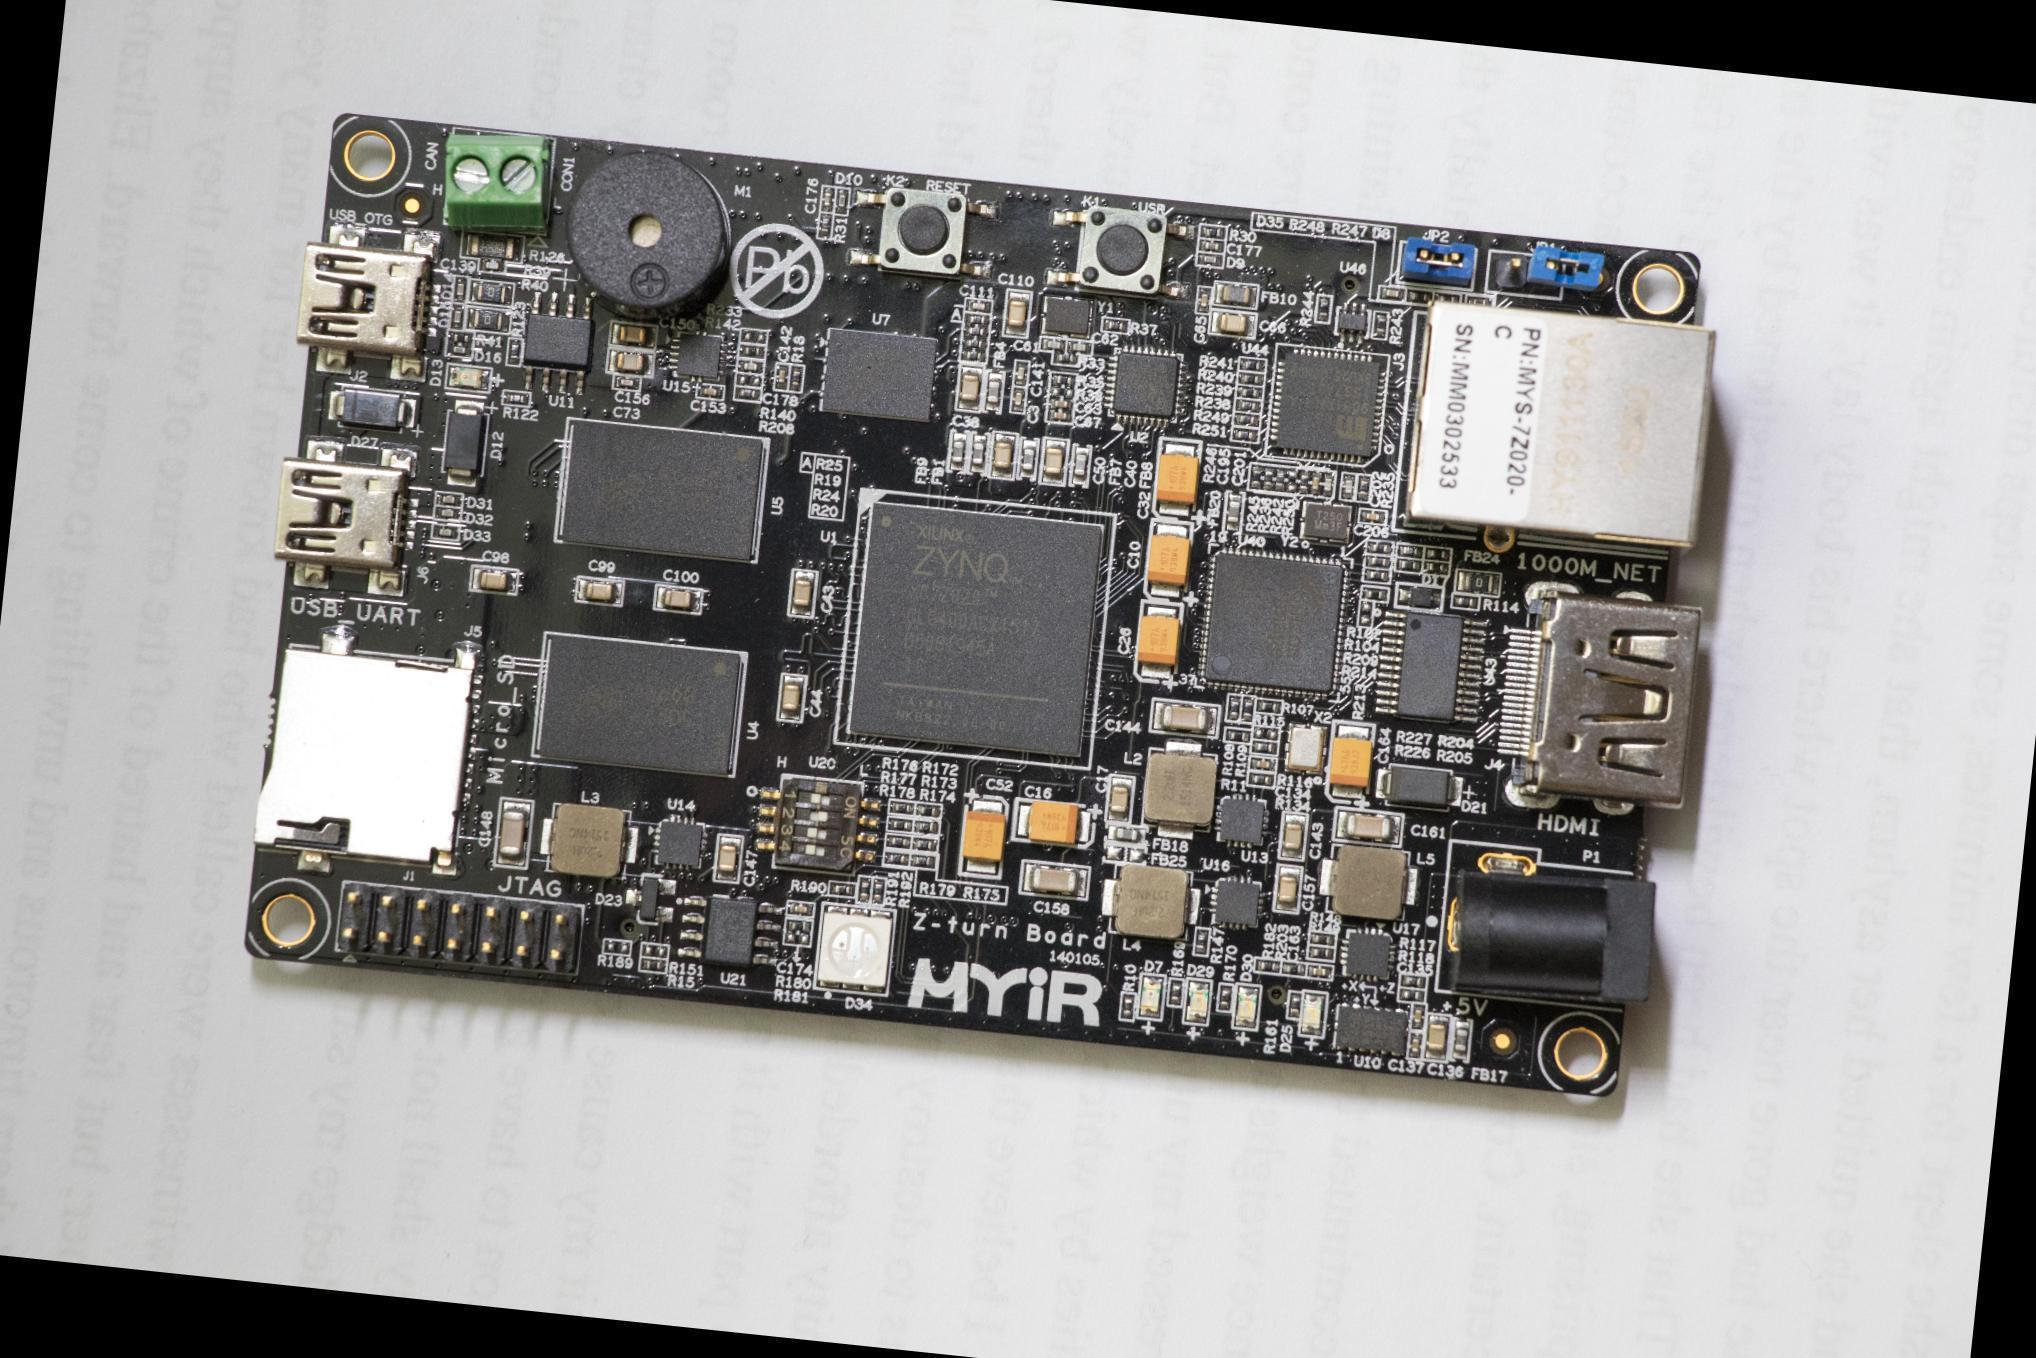Button: (1047, 202, 1196, 299), (849, 184, 998, 277)
Capacitor: (1149, 696, 1222, 739), (493, 796, 534, 870), (1331, 805, 1404, 847), (1018, 860, 1091, 901), (776, 671, 809, 724), (652, 583, 704, 616), (574, 575, 626, 607), (605, 344, 654, 376), (1038, 437, 1069, 486), (786, 567, 818, 617), (1001, 288, 1032, 339), (469, 564, 518, 595), (1272, 864, 1304, 913), (1105, 775, 1134, 824), (956, 364, 987, 411), (1277, 811, 1307, 860), (1422, 1012, 1453, 1061), (607, 320, 657, 349), (713, 833, 743, 882), (989, 432, 1017, 481), (1211, 310, 1256, 338), (1008, 385, 1029, 414), (1012, 358, 1031, 386), (818, 184, 836, 214), (1197, 237, 1227, 254), (1406, 1030, 1425, 1058), (772, 361, 790, 392), (734, 357, 764, 376), (786, 900, 815, 918), (1409, 1002, 1427, 1030), (1044, 408, 1074, 424), (695, 383, 725, 400), (611, 374, 641, 391), (1357, 507, 1387, 525), (1306, 962, 1333, 980), (1039, 334, 1067, 351), (1046, 396, 1077, 411), (1319, 469, 1336, 497), (1339, 473, 1356, 501), (1249, 755, 1277, 771), (1064, 338, 1092, 354), (1196, 287, 1212, 313), (1307, 468, 1321, 497), (480, 258, 506, 272)
Connector: (1392, 297, 1718, 564), (248, 625, 481, 876), (1503, 578, 1706, 823), (1434, 840, 1665, 1014), (331, 919, 585, 1019), (292, 216, 446, 381), (439, 124, 559, 235), (1483, 248, 1529, 296)
Diode: (266, 440, 423, 605), (1374, 761, 1465, 813), (324, 386, 419, 432), (442, 406, 489, 478), (621, 871, 677, 924), (1393, 582, 1445, 614), (431, 521, 461, 542), (1379, 284, 1407, 303), (452, 275, 469, 303), (449, 302, 466, 330), (1196, 251, 1225, 269), (433, 507, 463, 523), (833, 185, 849, 215), (445, 343, 473, 359), (436, 491, 464, 507), (1465, 294, 1493, 307)
Electrolytic Capacitor: (1142, 517, 1195, 601), (1150, 438, 1201, 523), (1133, 598, 1183, 685), (1014, 799, 1096, 847), (1325, 720, 1373, 804), (960, 795, 1008, 879)
IC: (834, 485, 1117, 768), (530, 629, 751, 782), (553, 415, 772, 565), (1199, 555, 1355, 706), (1264, 341, 1389, 466), (1375, 608, 1487, 723), (817, 326, 939, 421), (678, 891, 783, 971), (520, 290, 596, 395), (1102, 341, 1189, 429), (1331, 1002, 1410, 1056), (668, 330, 727, 381), (653, 817, 706, 871), (1210, 878, 1263, 929), (1341, 929, 1393, 980), (1217, 794, 1268, 846), (1334, 306, 1370, 338)
Inductor: (1099, 861, 1202, 942), (1138, 738, 1219, 840), (544, 801, 630, 881), (1326, 842, 1411, 919)
Led: (814, 902, 896, 995), (1297, 990, 1328, 1037), (1182, 979, 1212, 1026), (1136, 971, 1165, 1020), (1233, 984, 1262, 1030)
Pads: (1105, 844, 1145, 864), (1248, 724, 1281, 743), (603, 938, 634, 956), (738, 328, 768, 346), (1046, 384, 1076, 401), (783, 931, 814, 948), (733, 371, 763, 387), (641, 943, 668, 959), (1357, 601, 1373, 626)
Resistor: (460, 229, 523, 261), (469, 279, 515, 306), (466, 304, 512, 332), (1229, 425, 1261, 444), (732, 385, 764, 404), (1215, 981, 1235, 1012), (737, 341, 768, 360), (1450, 592, 1480, 612), (1246, 770, 1277, 789), (1371, 310, 1390, 341), (500, 389, 531, 407), (910, 851, 938, 872), (1192, 925, 1211, 956), (1365, 538, 1394, 557), (881, 849, 911, 868), (1398, 972, 1427, 991), (1314, 294, 1333, 323), (1248, 462, 1267, 493), (1166, 977, 1185, 1008), (817, 211, 835, 241), (1280, 958, 1307, 978), (959, 335, 990, 351), (1305, 944, 1336, 961), (504, 337, 523, 366), (883, 834, 912, 852), (1363, 554, 1393, 571), (1360, 586, 1390, 603), (1249, 739, 1279, 756), (911, 836, 940, 853), (857, 873, 874, 903), (1424, 544, 1452, 562), (913, 818, 940, 836), (957, 349, 989, 364), (1050, 370, 1078, 386), (788, 364, 804, 393), (1356, 473, 1373, 502), (1255, 698, 1283, 715), (1225, 693, 1242, 722), (888, 799, 916, 816), (870, 877, 886, 907), (1309, 931, 1337, 948), (1396, 986, 1426, 1004), (1287, 990, 1304, 1018), (638, 958, 667, 974), (1199, 223, 1227, 239), (1102, 317, 1130, 334), (887, 816, 914, 833), (1235, 384, 1265, 399), (1233, 398, 1263, 414), (1364, 568, 1394, 583), (1224, 726, 1251, 743), (828, 880, 856, 898), (1254, 956, 1282, 973), (1236, 372, 1265, 386), (784, 918, 813, 934), (1238, 357, 1266, 373), (1285, 465, 1299, 497), (447, 329, 473, 345), (1263, 463, 1277, 493), (1274, 465, 1288, 495), (1396, 542, 1424, 558), (1395, 557, 1422, 573), (1422, 561, 1450, 576), (964, 312, 990, 327), (960, 325, 991, 338), (918, 802, 942, 819), (1407, 287, 1432, 303), (1298, 467, 1312, 496), (1052, 351, 1078, 366), (1240, 694, 1254, 722), (1436, 291, 1460, 303)
Switch: (754, 771, 880, 879)
